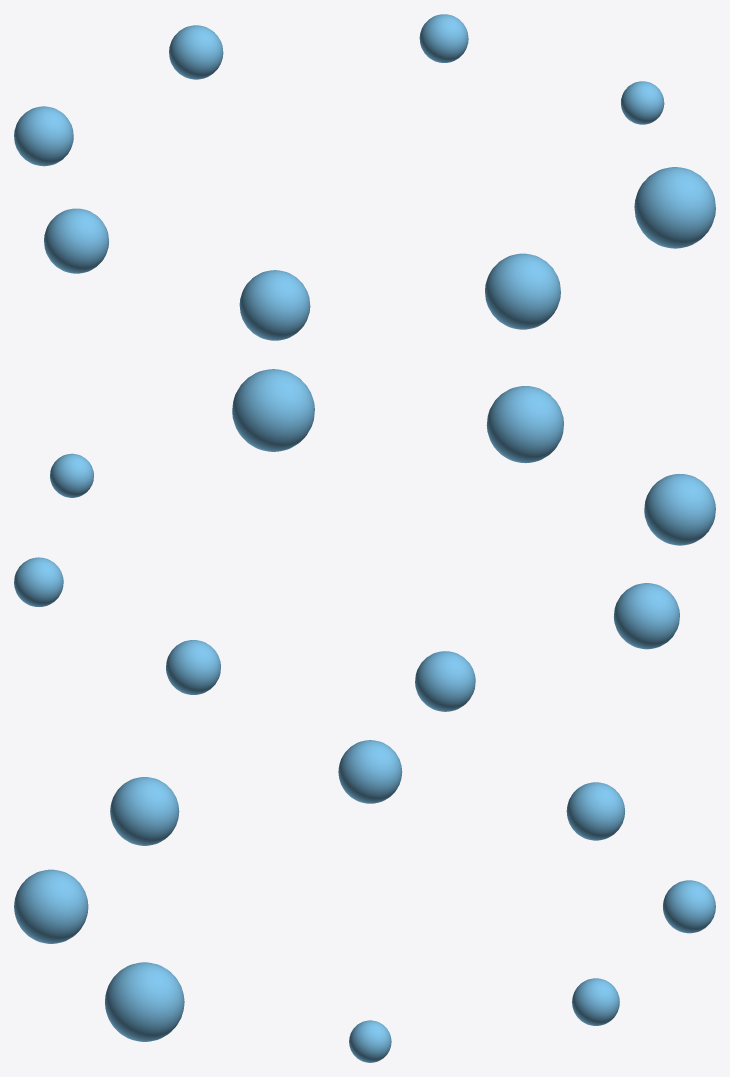
File: calculation_functions.glb
The picture shows the model from 3 angles, top to bottom: view 1: azimuth 30°, elevation 25°; view 2: azimuth 150°, elevation 25°; view 3: azimuth 270°, elevation 25°; orthographic projection. The views are drawn at different scales.
Parts seen in each view (by area): view 1: ring; view 2: ring; view 3: ring.
Boxes of the visible parts, x1,y1,x2,y2 form: ring: (14,14,715,340); ring: (14,369,715,711); ring: (14,740,715,1062).
Size of the model in its own units: 65 by 7.5 by 66.
